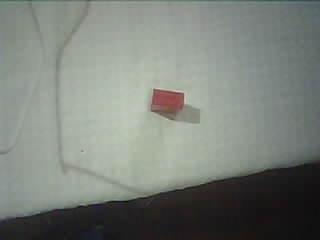lego: (148, 88, 185, 113)
